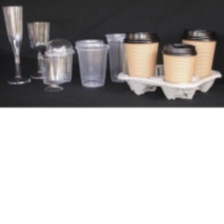glass: (0, 2, 33, 86), (179, 27, 218, 84), (120, 28, 160, 83), (159, 35, 195, 92), (101, 29, 135, 87), (74, 42, 112, 89), (42, 36, 78, 85), (28, 18, 53, 84), (36, 51, 69, 96)
